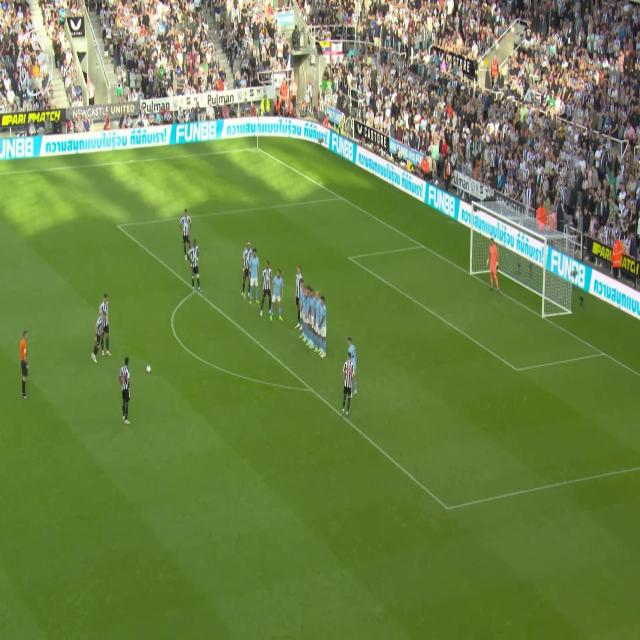left-top: (473, 201, 510, 223)
soccer-goal: (473, 202, 543, 317)
